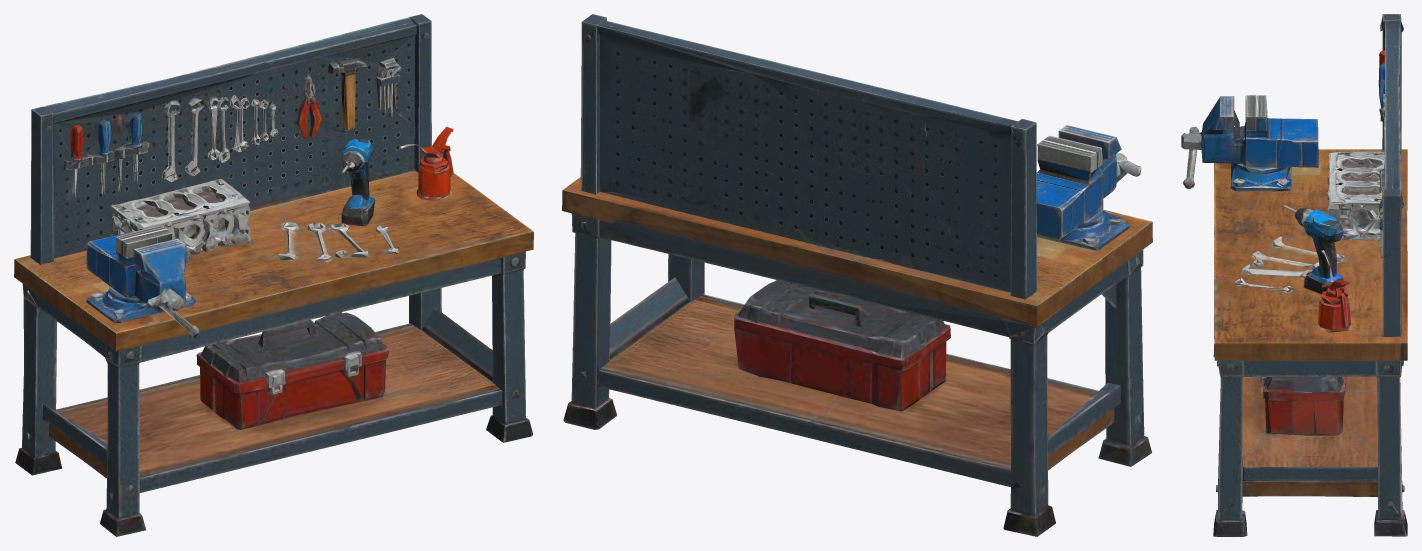
Rendered from bench.glb.
3 views of the same model, side by side, from view 1: azimuth 30°, elevation 25°; view 2: azimuth 150°, elevation 25°; view 3: azimuth 270°, elevation 25° (orthographic). The views are drawn at different scales.
Bounding box in the file's own units: 1.9 × 1.53 × 0.9361.
Materials: 1 (1 with a texture image).
